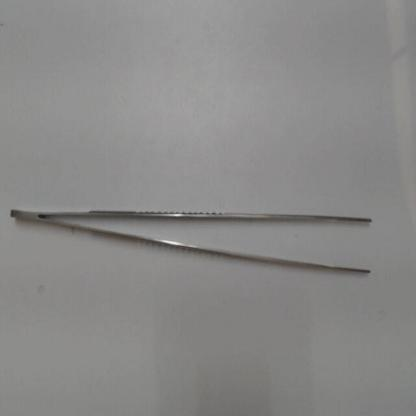DeBakey Dissector: (5, 199, 380, 298)
